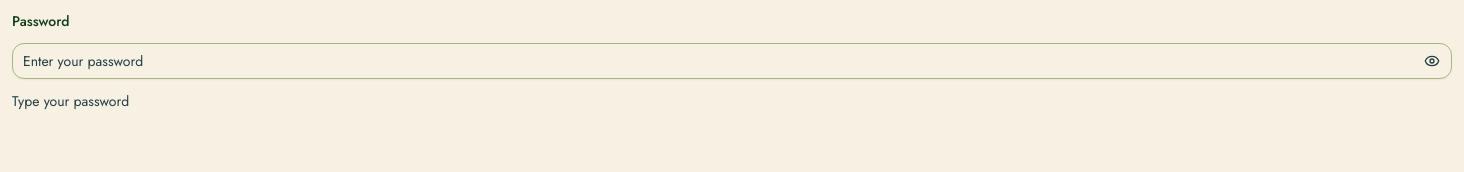
it: PasswordField › validation-error
This screenshot has width=1464, height=172.
Type "a" into the password field labelled "Password".
click(732, 61); type("a")  # box x1=12 y1=43 x2=1452 y2=79
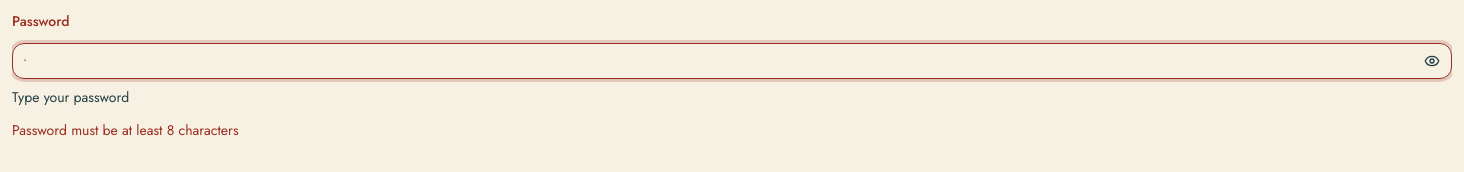
Result: the text "Password must be at least 8 characters" is shown at x1=12 y1=120 x2=238 y2=140
Type "bcdefgh" into the password field labelled "Password".
click(732, 61); type("bcdefgh")  # box x1=12 y1=43 x2=1452 y2=79
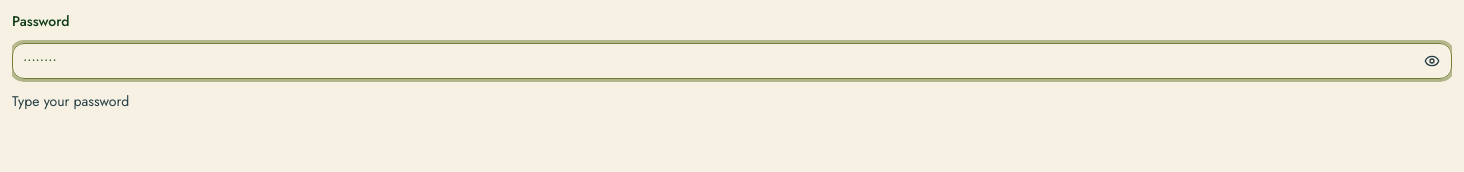
Result: the text "Password must be at least 8 characters" is gone
Type "bcdefghijklmnopqrstuvwxyz" into the password field labelled "Password".
click(732, 61); type("bcdefghijklmnopqrstuvwxyz")  # box x1=12 y1=43 x2=1452 y2=79
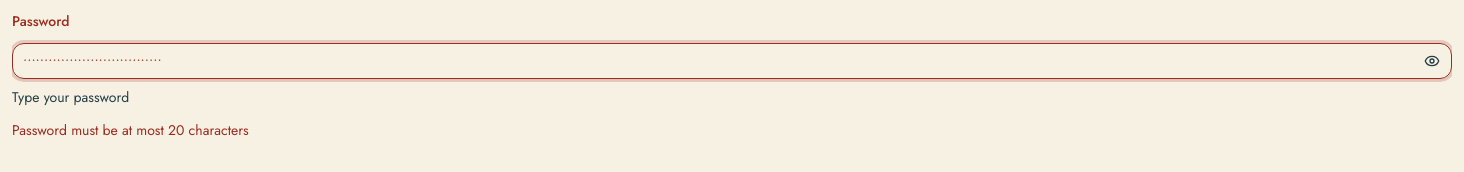
Result: the text "Password must be at most 20 characters" is shown at x1=12 y1=120 x2=249 y2=140
